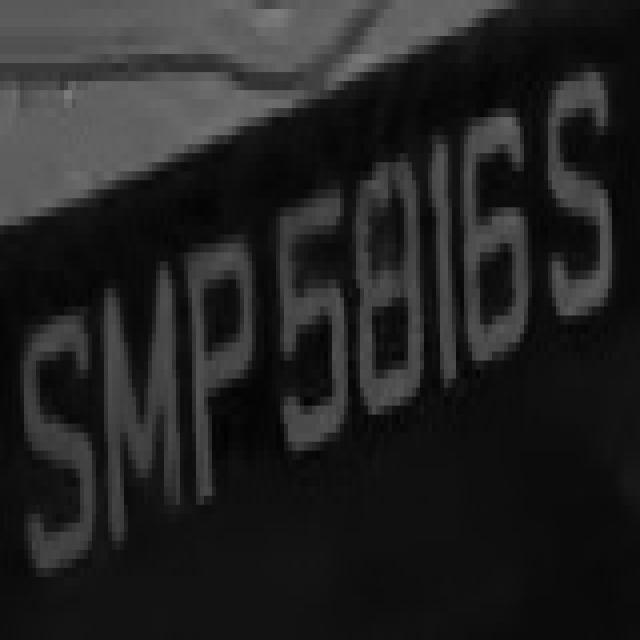1: (416, 108, 468, 469)
5: (264, 171, 340, 478)
6: (448, 81, 528, 370)
8: (344, 153, 428, 424)
M: (72, 243, 192, 559)
P: (172, 207, 264, 496)
S: (16, 279, 100, 613), (532, 63, 620, 370)
